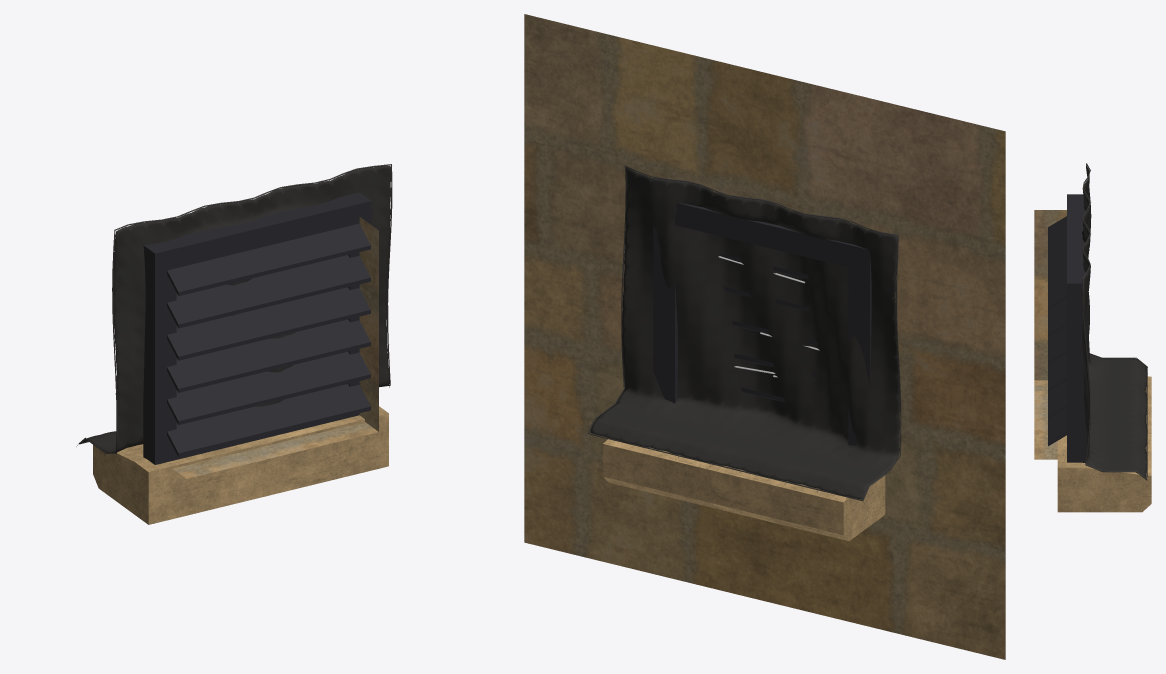
File: garden_vent_review.glb
3 views of the same model, side by side, from view 1: azimuth 30°, elevation 25°; view 2: azimuth 150°, elevation 25°; view 3: azimuth 270°, elevation 25° (orthographic). The views are drawn at different scales.
Visible parts, largest first — view 1: 门窗_iron, 花园·遮光布（堵着通风口）, 立面_细石, 主体结构-col; view 2: 主体结构-col, 花园·遮光布（堵着通风口）, 立面_细石, 门窗_iron; view 3: 门窗_iron, 花园·遮光布（堵着通风口）, 立面_细石, 主体结构-col.
Part boxes in pixels (box(x1,y1,x2,y2)): 门窗_iron: box(143, 192, 371, 464); 花园·遮光布（堵着通风口）: box(76, 164, 392, 455); 立面_细石: box(93, 406, 388, 524); 主体结构-col: box(173, 217, 378, 478); 主体结构-col: box(524, 14, 1005, 659); 花园·遮光布（堵着通风口）: box(588, 166, 901, 503); 立面_细石: box(603, 439, 885, 540); 门窗_iron: box(653, 203, 871, 445); 门窗_iron: box(1048, 194, 1086, 462); 花园·遮光布（堵着通风口）: box(1082, 163, 1147, 480); 立面_细石: box(1057, 376, 1151, 512); 主体结构-col: box(1034, 210, 1066, 459).
Size of the model in its own units: 1 by 1.05 by 0.25.
7 materials, 2 textured.
